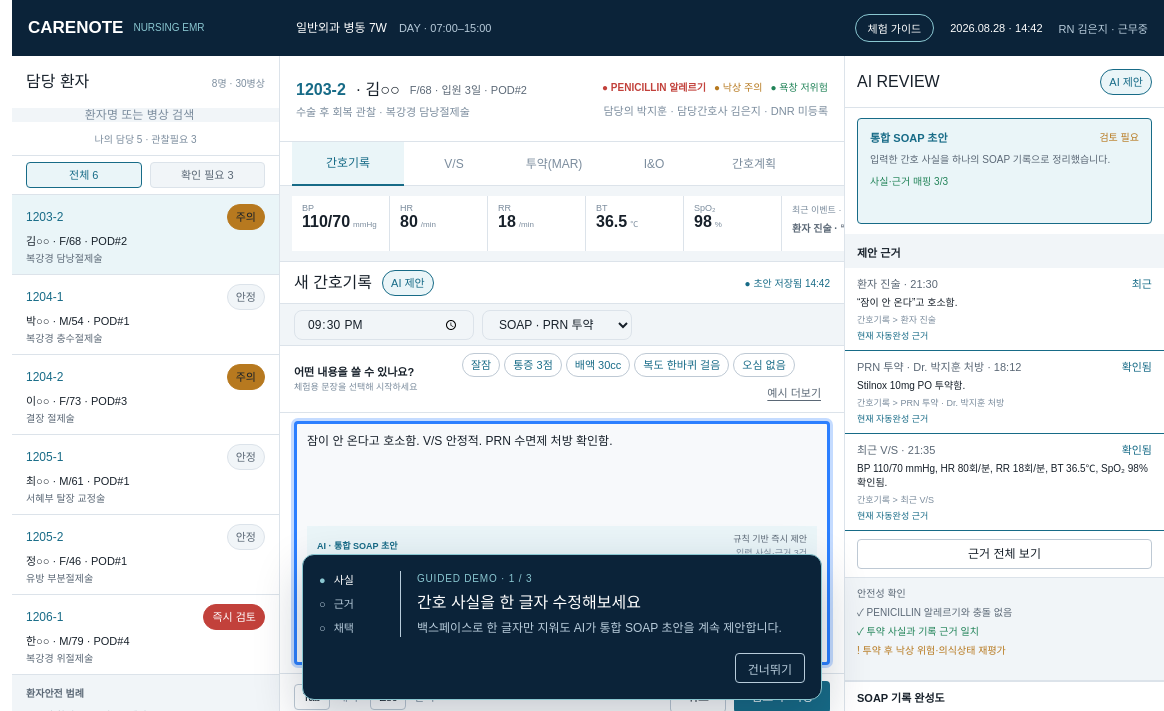
it: ChartingWorkspace › updates the patient context, timeline, draft, and evidence after search and selection
Type "박○○" into the search field named "환자 검색" at (146, 115), box [12,108,279,122]
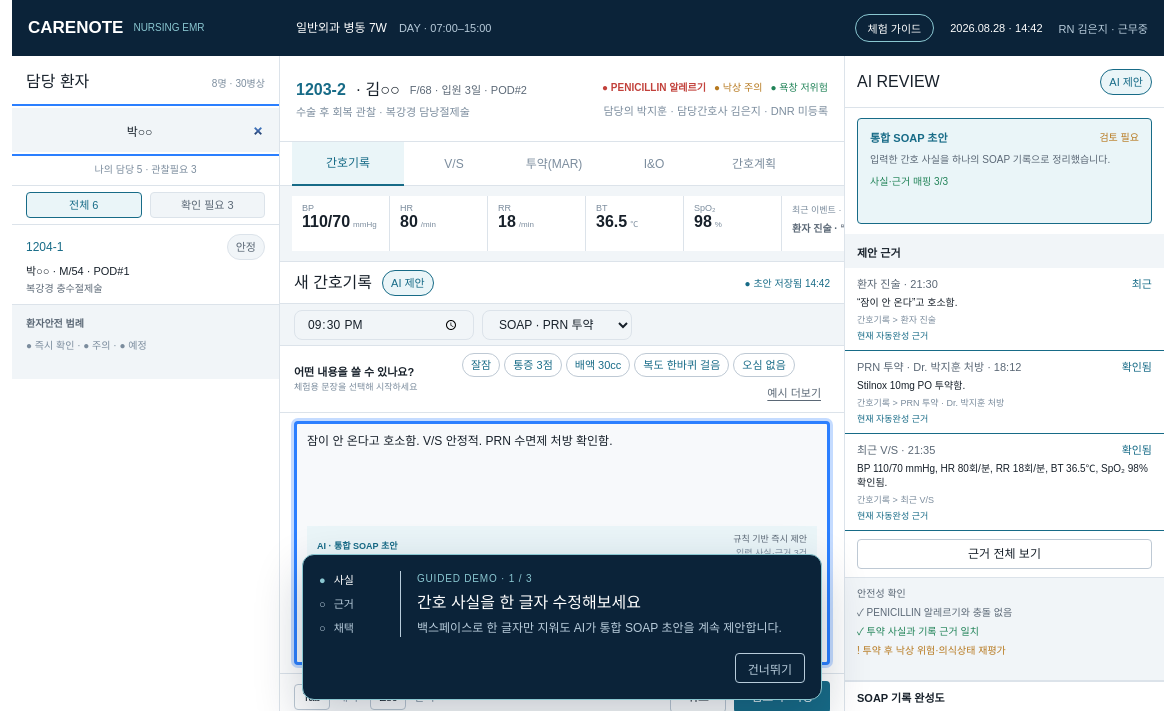
Click the button "1204-1 안정 박○○ · M/54 · POD#1 복강경 충수절제술" at (45, 247), box [12,225,279,305]
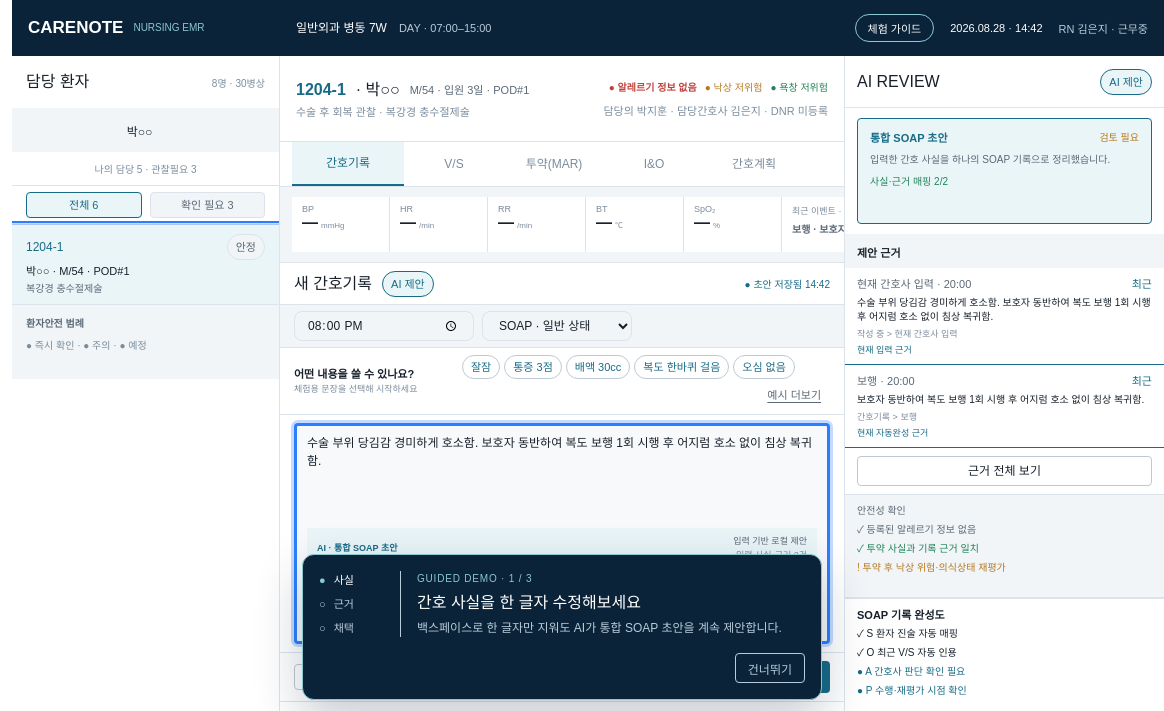
Check: the heading "1204-1 · 박○○ M/54 · 입원 3일 · POD#1" is shown, box [296,78,529,102]
Check: the text box named "간호 사실 입력" holds "수술 부위 당김감 경미하게 호소함. 보호자 동반하여 복도 보행 1회 시행 후 어지럼 호소 없이 침상 복귀함.", box [295,424,829,528]
Check: the dropdown named "기록 분류" shows "SOAP · 일반 상태", box [482,311,632,341]
